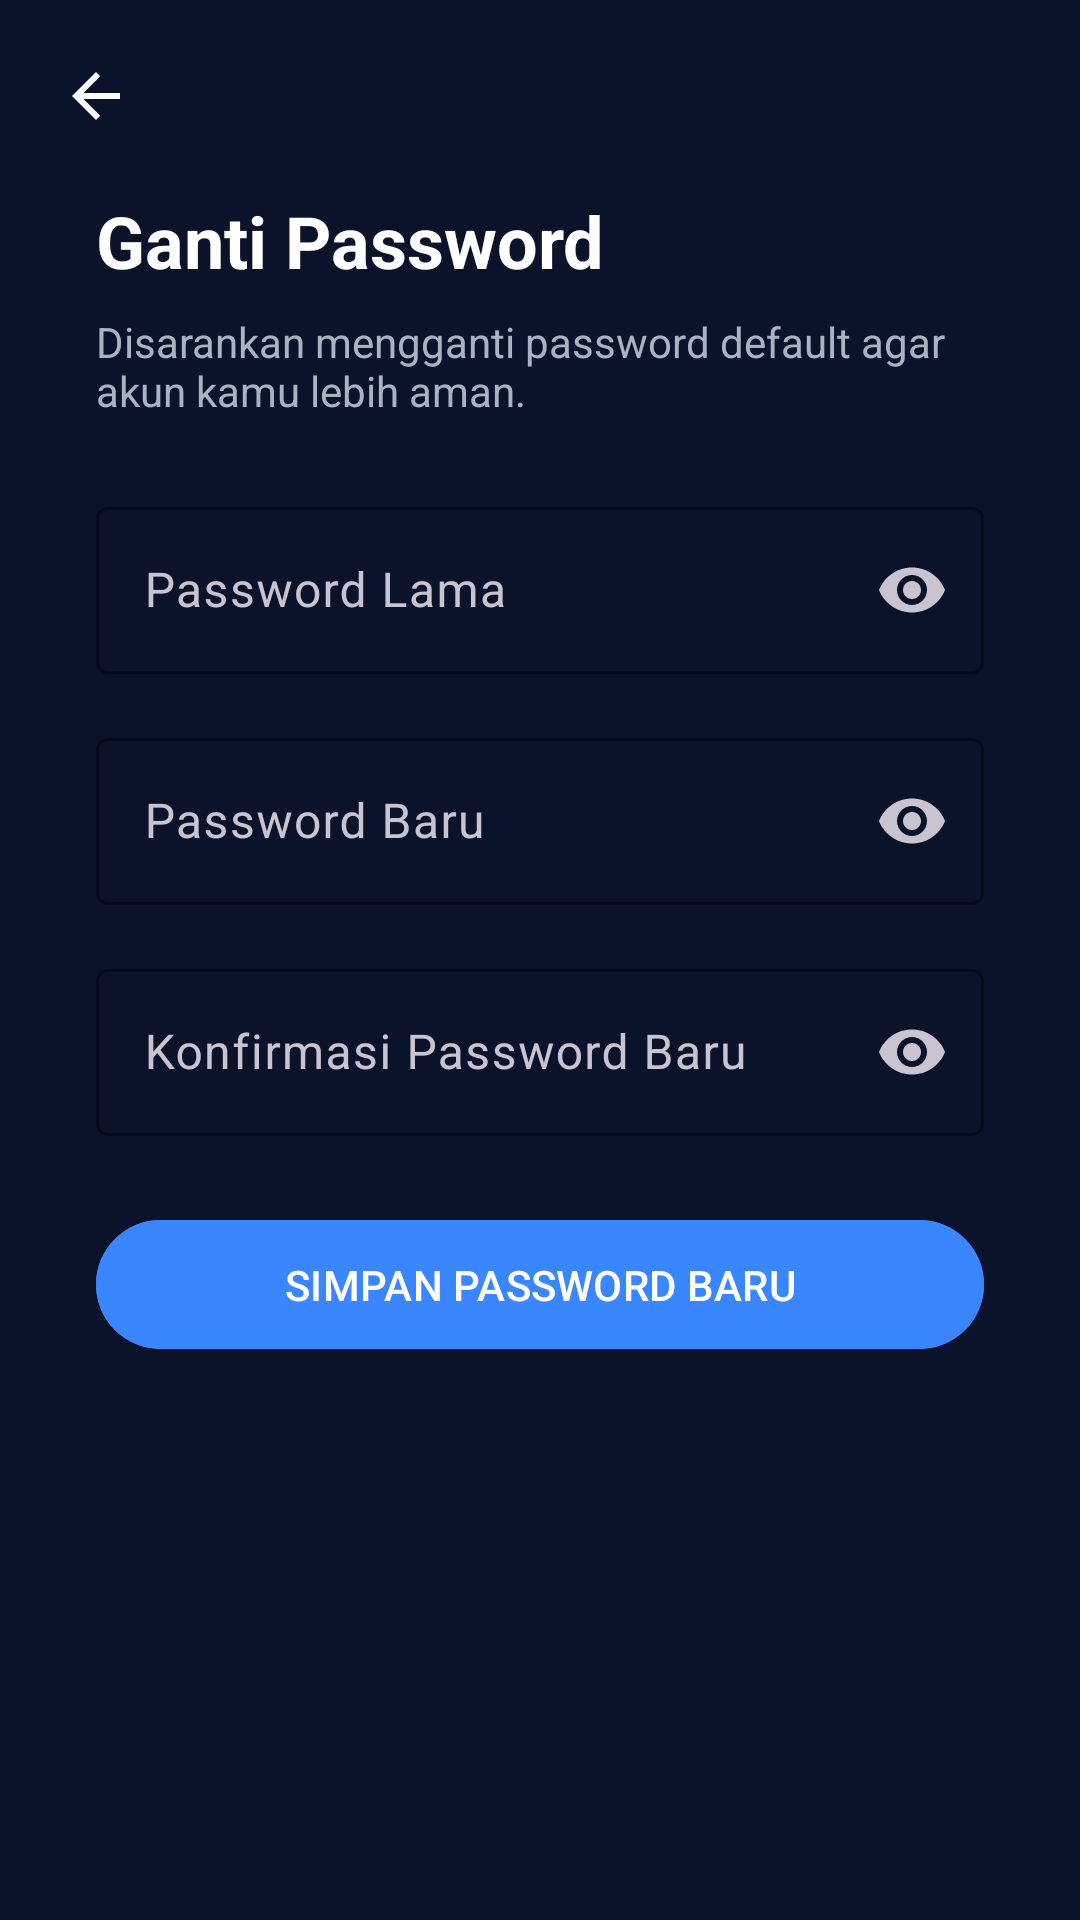

Where icons sit on this 1080 × 1920 app screen, as (x1, y1, x2, y2):
arrow back: (72, 72, 120, 120)
